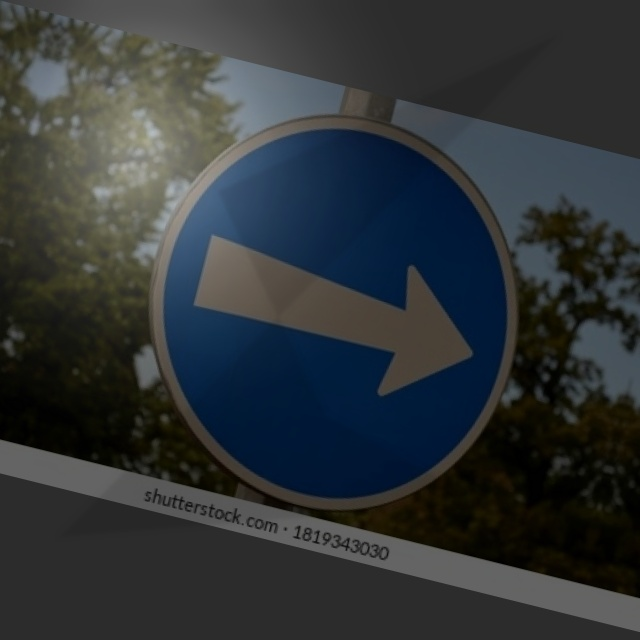Compulsory_Turn_Right: (117, 78, 550, 534)
